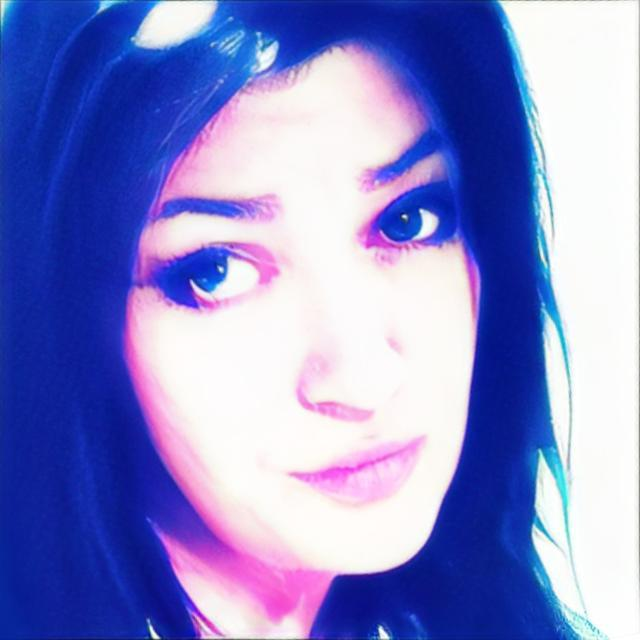content: (128, 35, 485, 578)
